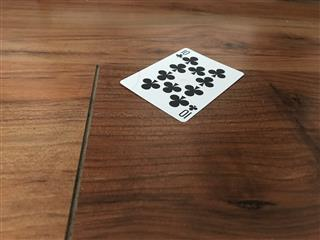TenOfClubs: (118, 46, 245, 122)
